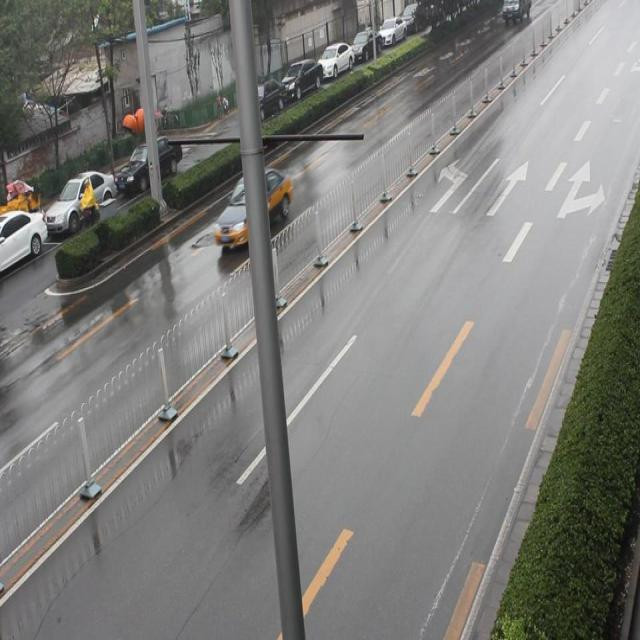car: (212, 166, 290, 252)
